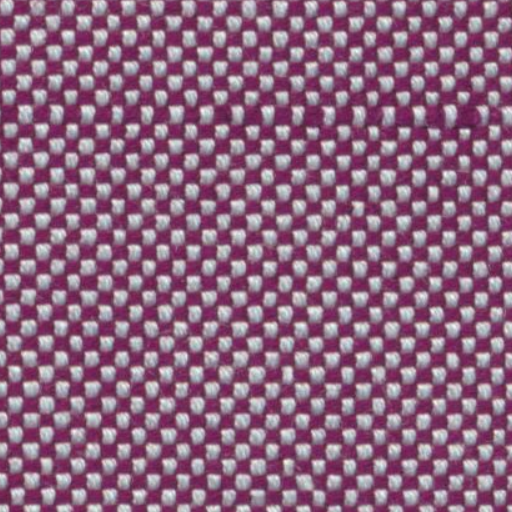DaiSha: (25, 88, 484, 140)
